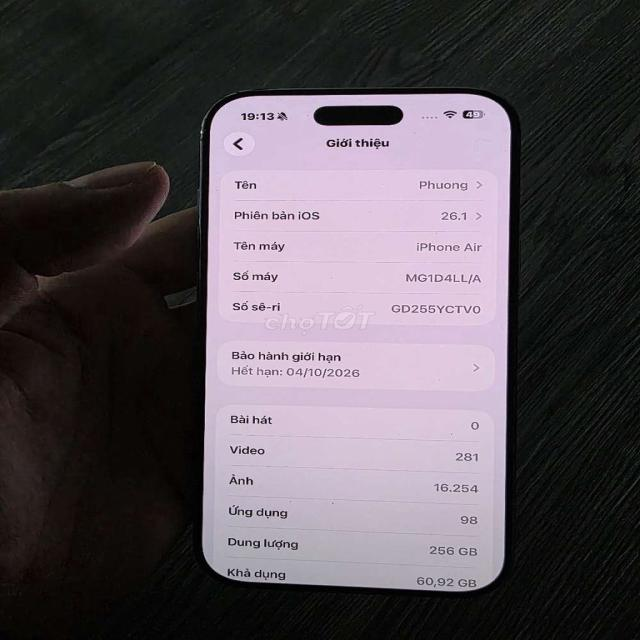gen_17: (169, 79, 563, 614)
